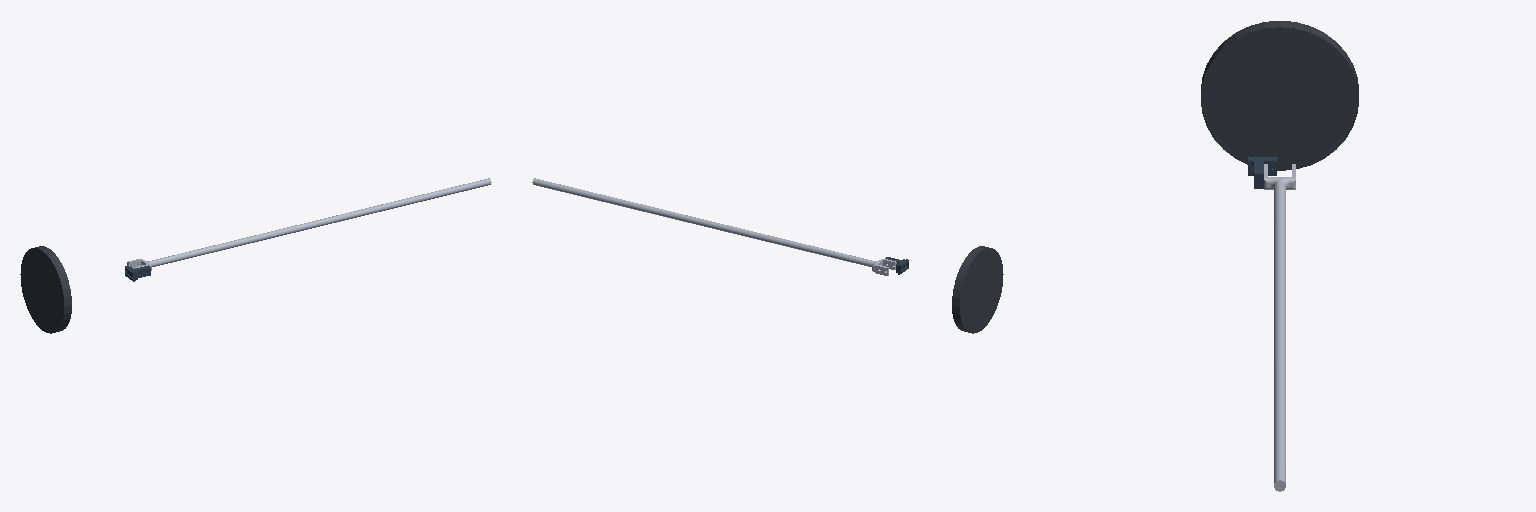
robot.urdf — jegg2008_straight_plus300:
<?xml version="1.0" encoding="utf-8"?>
<!-- Gripper-only straight-tip variant, 2026-10-01.
     Previous 300 mm extension, motor, adapter and joint settings retained.
     Distal tips straightened; corresponding collision meshes and TCP updated.
     Mesh units: meters. Custom mass/inertia values are simulation estimates.
     Physical strength/mounting and Isaac Sim runtime have not been verified. -->
<!-- Sim-Dataset: copied from jegg2008_straight_300mm/jegg2008_straight_300mm.urdf; only mesh paths changed.
     Root link `flange` = the robot link the gripper is attached to (scripts/robot_sim.py `gripper:`). -->
<robot name="jegg2008_straight_plus300">
  <link name="flange" />
  <joint name="flange_mount_joint" type="fixed">
    <parent link="flange" />
    <child link="gripper_mount" />
    <origin xyz="0 0 0" rpy="0 0 0" />
  </joint>
  <link name="gripper_mount">
    <visual>
      <origin xyz="0.004 0 0" rpy="0 1.570796327 0" />
      <geometry>
        <cylinder radius="0.04" length="0.008" />
      </geometry>
      <material name="mount_gray">
        <color rgba="0.28 0.30 0.33 1" />
      </material>
    </visual>
    <collision>
      <origin xyz="0.004 0 0" rpy="0 1.570796327 0" />
      <geometry>
        <cylinder radius="0.04" length="0.008" />
      </geometry>
    </collision>
    <inertial>
      <origin xyz="0.004 0 0" rpy="0 0 0" />
      <mass value="0.1085734421" />
      <inertia ixx="0.0001158116716" ixy="0" ixz="0" iyy="5.848489415e-05" iyz="0" izz="5.848489415e-05" />
    </inertial>
  </link>
  <joint name="flange_to_gripper_motor" type="fixed">
    <parent link="gripper_mount" />
    <child link="gripper_motor" />
    <origin xyz="0.008 0 0" rpy="0 1.570796327 0" />
  </joint>
  <link name="gripper_motor">
    <visual>
      <origin xyz="0 0 0" rpy="0 0 0" />
      <geometry>
        <mesh filename="../meshes/jegg2008_straight_300mm/visual/motor_body_m.stl" scale="1 1 1" />
      </geometry>
      <material name="motor_body_m_material">
        <color rgba="0.60 0.65 0.70 1" />
      </material>
    </visual>
    <collision>
      <origin xyz="0 0 0" rpy="0 0 0" />
      <geometry>
        <mesh filename="../meshes/jegg2008_straight_300mm/collision/motor_collision_m.stl" scale="1 1 1" />
      </geometry>
    </collision>
    <inertial>
      <origin xyz="0 0.005499999046 0.0405" rpy="0 0 0" />
      <mass value="0.2127513708" />
      <inertia ixx="0.0001684040546" ixy="0" ixz="0" iyy="0.0001267047887" iyz="0" izz="6.246521927e-05" />
    </inertial>
  </link>
  <link name="gripper_left">
    <visual>
      <origin xyz="0 0 0" rpy="0 0 0" />
      <geometry>
        <mesh filename="../meshes/jegg2008_straight_300mm/visual/left_slider_m.stl" scale="1 1 1" />
      </geometry>
      <material name="left_slider_m_material">
        <color rgba="0.25 0.31 0.38 1" />
      </material>
    </visual>
    <visual>
      <origin xyz="0 0 0" rpy="0 0 0" />
      <geometry>
        <mesh filename="../meshes/jegg2008_straight_300mm/visual/left_finger_straight_m.stl" scale="1 1 1" />
      </geometry>
      <material name="left_finger_plus300_m_material">
        <color rgba="0.72 0.75 0.80 1" />
      </material>
    </visual>
    <collision>
      <origin xyz="0 0 0" rpy="0 0 0" />
      <geometry>
        <mesh filename="../meshes/jegg2008_straight_300mm/collision/left_slider_collision_m.stl" scale="1 1 1" />
      </geometry>
    </collision>
    <collision>
      <origin xyz="0 0 0" rpy="0 0 0" />
      <geometry>
        <mesh filename="../meshes/jegg2008_straight_300mm/collision/left_finger_collision_0_m.stl" scale="1 1 1" />
      </geometry>
    </collision>
    <collision>
      <origin xyz="0 0 0" rpy="0 0 0" />
      <geometry>
        <mesh filename="../meshes/jegg2008_straight_300mm/collision/left_finger_collision_1_m.stl" scale="1 1 1" />
      </geometry>
    </collision>
    <inertial>
      <origin xyz="0 0.00804999934 0.2694075859" rpy="0 0 0" />
      <mass value="0.0543888381" />
      <inertia ixx="0.0006688663897" ixy="0" ixz="0" iyy="0.0006681628581" iyz="0" izz="1.646156553e-06" />
    </inertial>
    <collision>
      <origin xyz="0 0 0" rpy="0 0 0" />
      <geometry>
        <mesh filename="../meshes/jegg2008_straight_300mm/collision/left_finger_collision_shaft_m.stl" scale="1 1 1" />
      </geometry>
    </collision>
  </link>
  <joint name="gripper_left_joint" type="prismatic">
    <parent link="gripper_motor" />
    <child link="gripper_left" />
    <origin xyz="0 0 0" rpy="0 0 0" />
    <axis xyz="0 1 0" />
    <limit lower="0" upper="0.004" effort="7" velocity="0.0325" />
    <dynamics damping="2" friction="0.05" />
  </joint>
  <link name="gripper_right">
    <visual>
      <origin xyz="0 0 0" rpy="0 0 0" />
      <geometry>
        <mesh filename="../meshes/jegg2008_straight_300mm/visual/right_slider_m.stl" scale="1 1 1" />
      </geometry>
      <material name="right_slider_m_material">
        <color rgba="0.25 0.31 0.38 1" />
      </material>
    </visual>
    <visual>
      <origin xyz="0 0 0" rpy="0 0 0" />
      <geometry>
        <mesh filename="../meshes/jegg2008_straight_300mm/visual/right_finger_straight_m.stl" scale="1 1 1" />
      </geometry>
      <material name="right_finger_plus300_m_material">
        <color rgba="0.72 0.75 0.80 1" />
      </material>
    </visual>
    <collision>
      <origin xyz="0 0 0" rpy="0 0 0" />
      <geometry>
        <mesh filename="../meshes/jegg2008_straight_300mm/collision/right_slider_collision_m.stl" scale="1 1 1" />
      </geometry>
    </collision>
    <collision>
      <origin xyz="0 0 0" rpy="0 0 0" />
      <geometry>
        <mesh filename="../meshes/jegg2008_straight_300mm/collision/right_finger_collision_0_m.stl" scale="1 1 1" />
      </geometry>
    </collision>
    <collision>
      <origin xyz="0 0 0" rpy="0 0 0" />
      <geometry>
        <mesh filename="../meshes/jegg2008_straight_300mm/collision/right_finger_collision_1_m.stl" scale="1 1 1" />
      </geometry>
    </collision>
    <inertial>
      <origin xyz="0 -0.00804999934 0.2694075859" rpy="0 0 0" />
      <mass value="0.054388838" />
      <inertia ixx="0.0006688663884" ixy="0" ixz="0" iyy="0.0006681628569" iyz="0" izz="1.64615655e-06" />
    </inertial>
    <collision>
      <origin xyz="0 0 0" rpy="0 0 0" />
      <geometry>
        <mesh filename="../meshes/jegg2008_straight_300mm/collision/right_finger_collision_shaft_m.stl" scale="1 1 1" />
      </geometry>
    </collision>
  </link>
  <joint name="gripper_right_joint" type="prismatic">
    <parent link="gripper_motor" />
    <child link="gripper_right" />
    <origin xyz="0 0 0" rpy="0 0 0" />
    <axis xyz="0 -1 0" />
    <limit lower="0" upper="0.004" effort="7" velocity="0.0325" />
    <dynamics damping="2" friction="0.05" />
    <mimic joint="gripper_left_joint" multiplier="1" offset="0" />
  </joint>
  <link name="gripper_tcp" />
  <joint name="gripper_tcp_joint" type="fixed">
    <parent link="gripper_motor" />
    <child link="gripper_tcp" />
    <origin xyz="0 0 0.4613158493" rpy="0 0 0" />
  </joint>
</robot>

--- Render facts (derived) ---
3 views of the same robot in one strip: view 1: azimuth 30°, elevation 25°; view 2: azimuth 150°, elevation 25°; view 3: azimuth 270°, elevation 25° (orthographic).
Model jegg2008_straight_plus300 with 6 links and 5 joints (2 prismatic, 3 fixed), rooted at flange, posed every joint at zero.
Visible links, largest first — view 1: gripper_mount, gripper_right; view 2: gripper_mount, gripper_left; view 3: gripper_mount, gripper_right, gripper_left.
Boxes of the visible links, x1,y1,x2,y2 form: gripper_mount: (20,246,71,333); gripper_right: (125,179,491,281); gripper_mount: (952,246,1003,333); gripper_left: (532,179,888,275); gripper_mount: (1201,21,1358,170); gripper_right: (1248,156,1279,491); gripper_left: (1280,164,1295,491).
Size in the robot's own frame: 0.4693 by 0.08 by 0.08 metres.
3 mesh visuals loaded from 5 distinct referenced files (3 binary STL); not drawn: 2 (reference not matched to a file when rendering).
